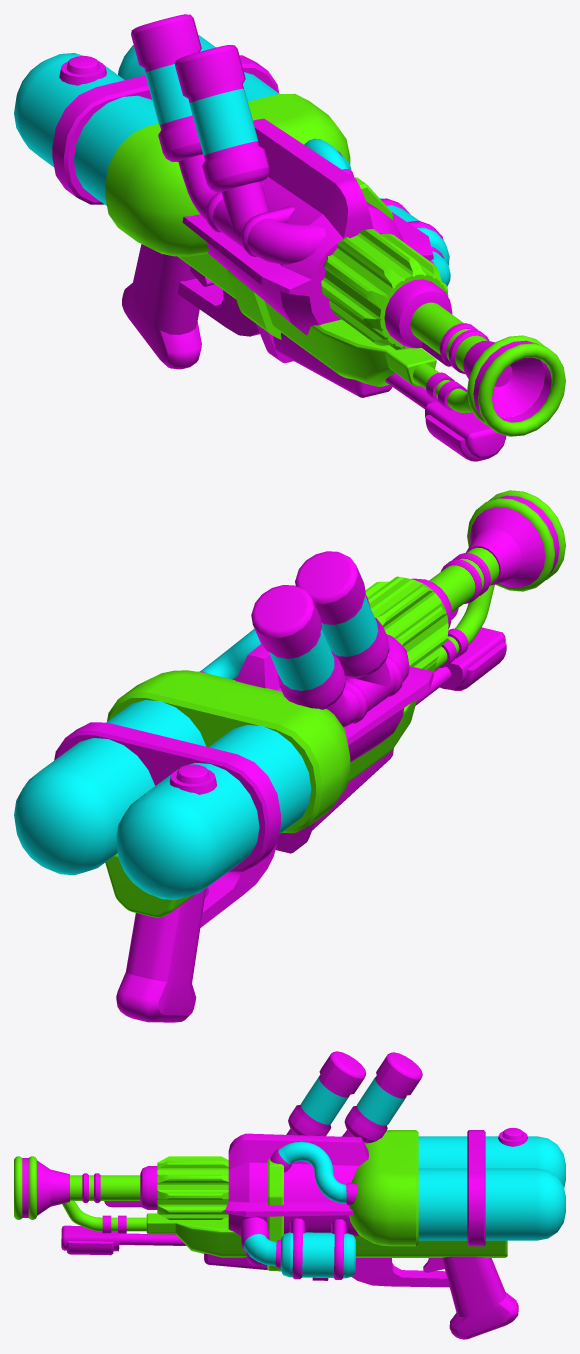
Rendered from Paint_Gun.fbx.
3 views of the same model, one above another, from view 1: azimuth 30°, elevation 25°; view 2: azimuth 150°, elevation 25°; view 3: azimuth 270°, elevation 25° (orthographic). The views are drawn at different scales.
Visible parts, largest first — view 1: pCylinder13; view 2: pCylinder13; view 3: pCylinder13.
Part boxes in pixels (x1=…): pCylinder13: x1=14, y1=14, x2=565, y2=461; pCylinder13: x1=14, y1=490, x2=565, y2=1022; pCylinder13: x1=14, y1=1051, x2=565, y2=1339.
Bounding box in the file's own units: 2.85 × 4.5 × 8.55.
